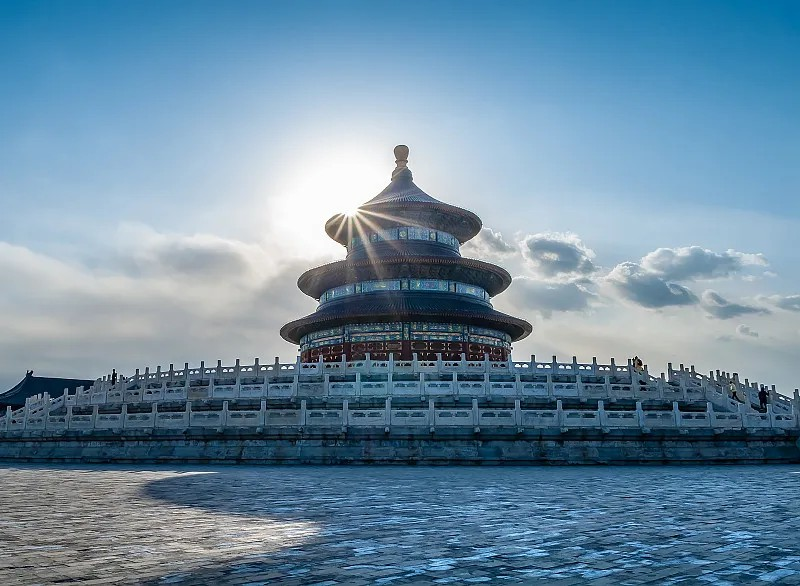Heaven: (280, 142, 532, 367)
